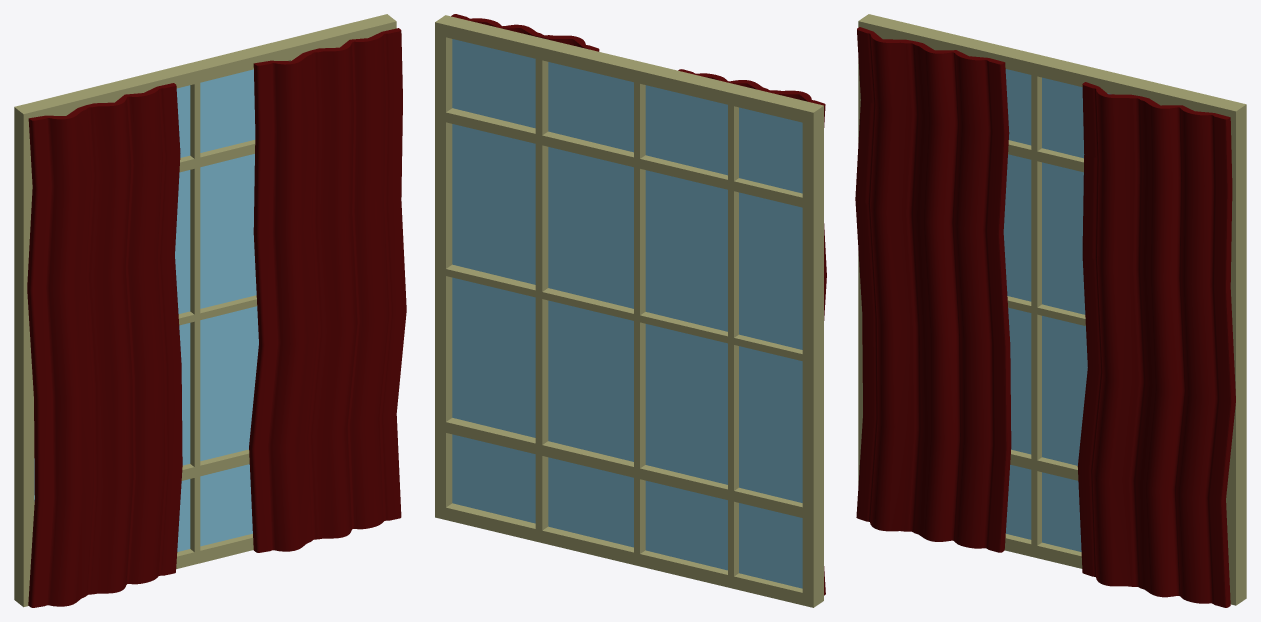
Rendered from WindowandCurtains.fbx.
3 views of the same model, side by side, from view 1: azimuth 30°, elevation 25°; view 2: azimuth 150°, elevation 25°; view 3: azimuth 330°, elevation 25° (orthographic).
Visible parts, largest first — view 1: pCube86, pCube35, pCube68, polySurface293; view 2: pCube68, polySurface293, pCube86, pCube35; view 3: pCube86, pCube35, pCube68, polySurface293.
Part boxes in pixels (x1,y1,x2,y2): pCube86: (27, 83, 182, 607); pCube35: (249, 28, 406, 552); pCube68: (34, 69, 258, 551); polySurface293: (14, 14, 396, 607); pCube68: (452, 39, 802, 588); polySurface293: (435, 15, 823, 607); pCube86: (678, 69, 826, 595); pCube35: (451, 14, 599, 51); pCube86: (855, 27, 1011, 552); pCube35: (1077, 82, 1235, 607); pCube68: (1003, 69, 1111, 551); polySurface293: (858, 14, 1246, 605).
Bounding box in the file's own units: 6.17 × 7.69 × 0.6801.
